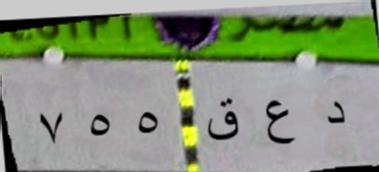5: (84, 106, 118, 144), (134, 107, 164, 144)
7: (33, 104, 70, 149)
ain: (261, 92, 300, 156)
daal: (320, 94, 353, 138)
qaaf: (202, 93, 242, 153)
